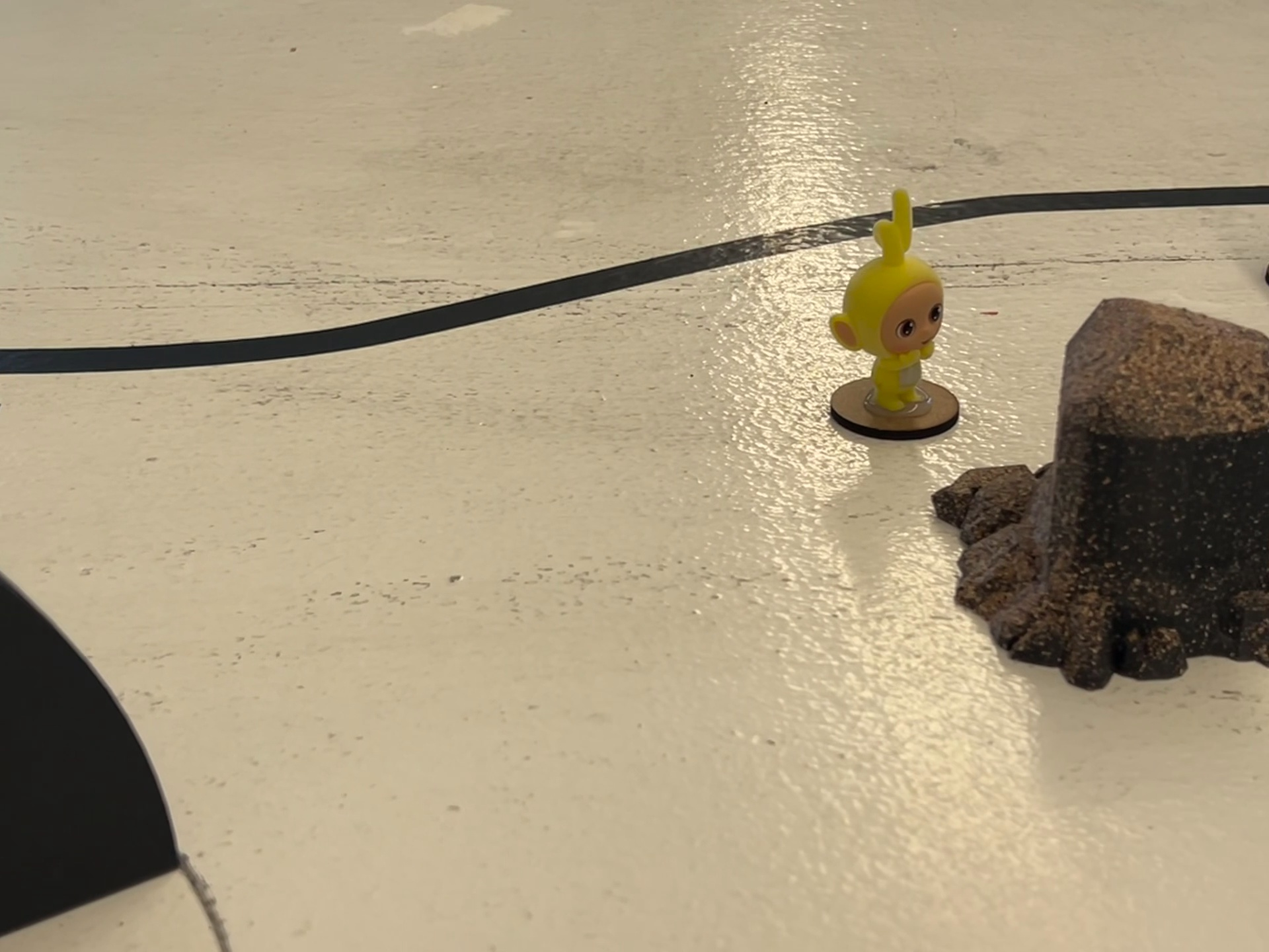teletubby: (830, 190, 943, 413)
